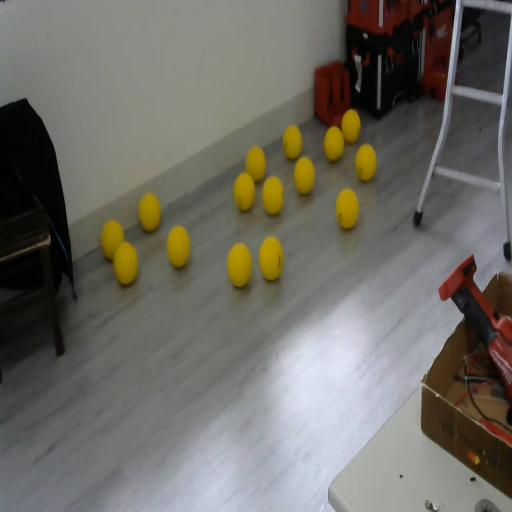FUEL: (112, 239, 139, 286), (226, 242, 253, 288), (258, 236, 284, 282), (166, 223, 191, 268), (335, 187, 359, 230), (137, 190, 161, 232), (232, 171, 256, 212), (355, 142, 377, 182), (293, 156, 315, 195), (262, 176, 284, 214), (246, 146, 266, 183), (282, 124, 302, 160), (324, 126, 344, 162), (341, 108, 361, 143)
